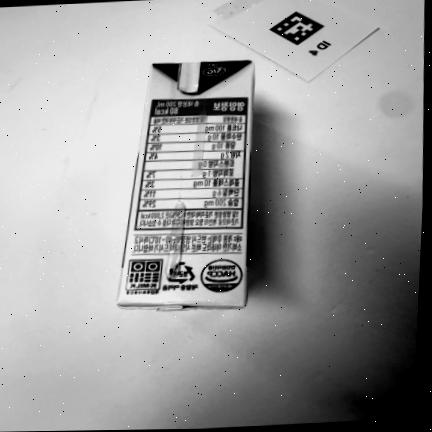milk_blue: (117, 61, 254, 310)
